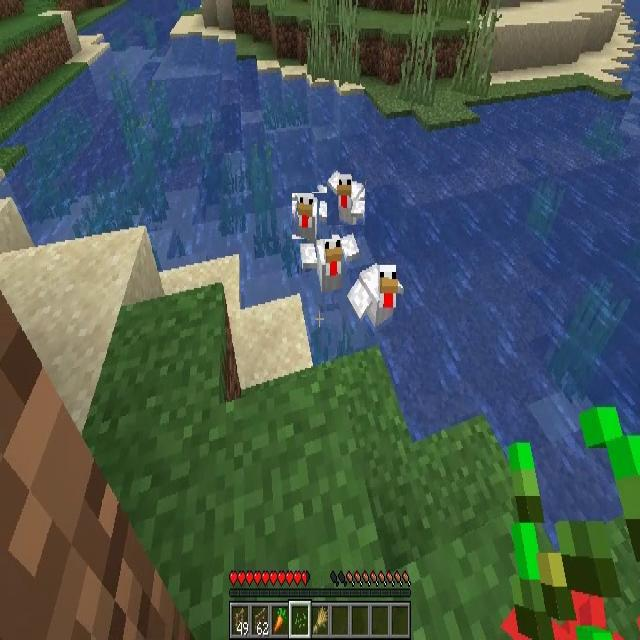duck: (347, 263, 403, 331), (303, 233, 357, 290), (328, 170, 366, 225), (292, 193, 332, 239)
